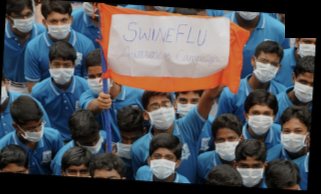with_mask: (147, 98, 175, 131), (278, 124, 308, 154), (86, 69, 114, 99), (47, 60, 76, 87), (149, 150, 175, 180), (236, 160, 264, 187), (214, 132, 239, 162), (253, 55, 279, 83), (248, 108, 273, 137), (46, 14, 72, 40), (175, 95, 200, 121), (19, 119, 44, 144), (292, 76, 313, 103), (11, 9, 34, 33), (78, 134, 103, 156), (297, 36, 315, 58)
